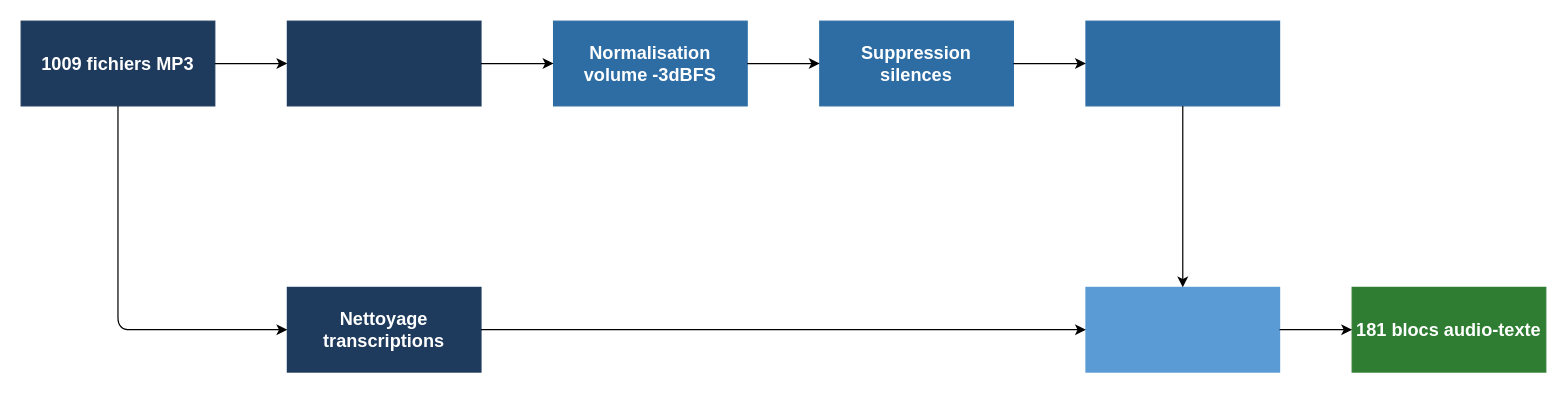
Some shapes in this 1567 by 393 pixel diagram are drawn without their labels. Here are the shapes that lost their labels. From the top down, the box of each, then its label:
(286, 20, 481, 106): Conversion WAV 16kHz mono
(1085, 20, 1280, 106): Debruitage leger
(1085, 286, 1280, 372): Concatenation en 181 blocs
